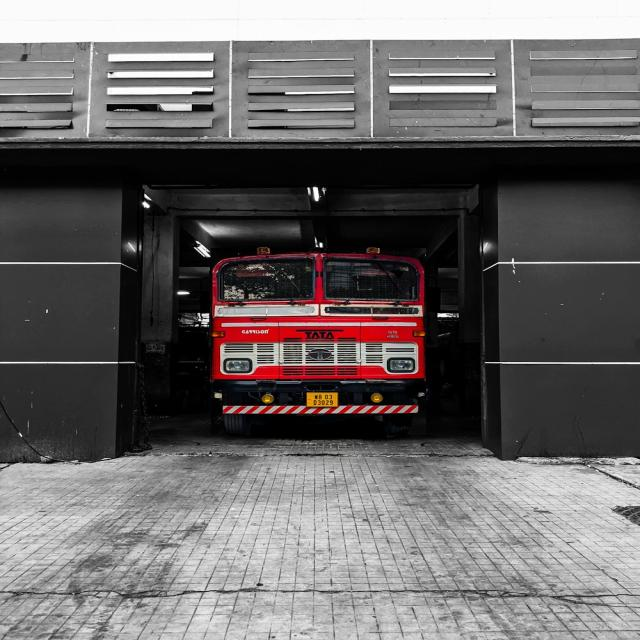emergency: (211, 248, 425, 435)
